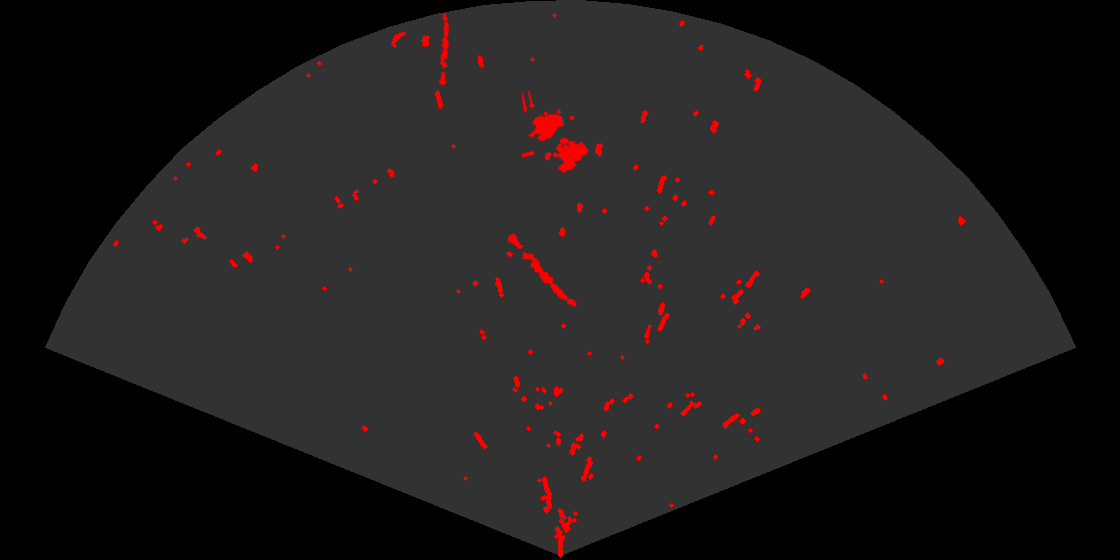cage: (522, 91, 590, 175)
chain: (506, 232, 578, 308), (437, 12, 451, 87)
